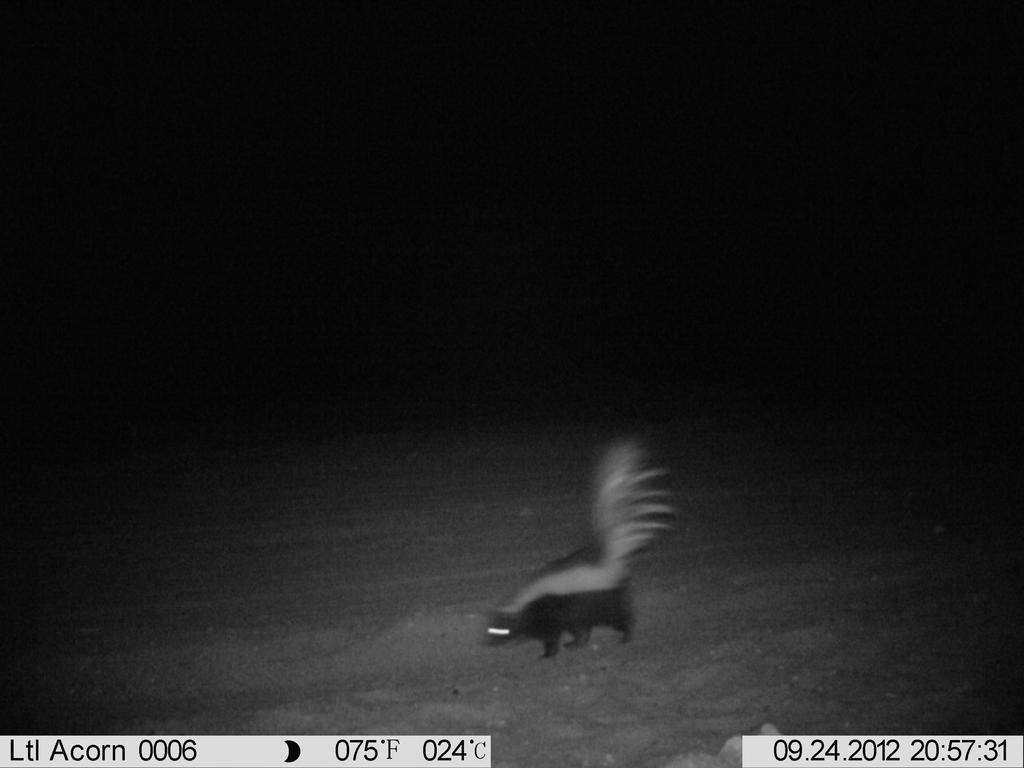skunk: (468, 429, 679, 671)
